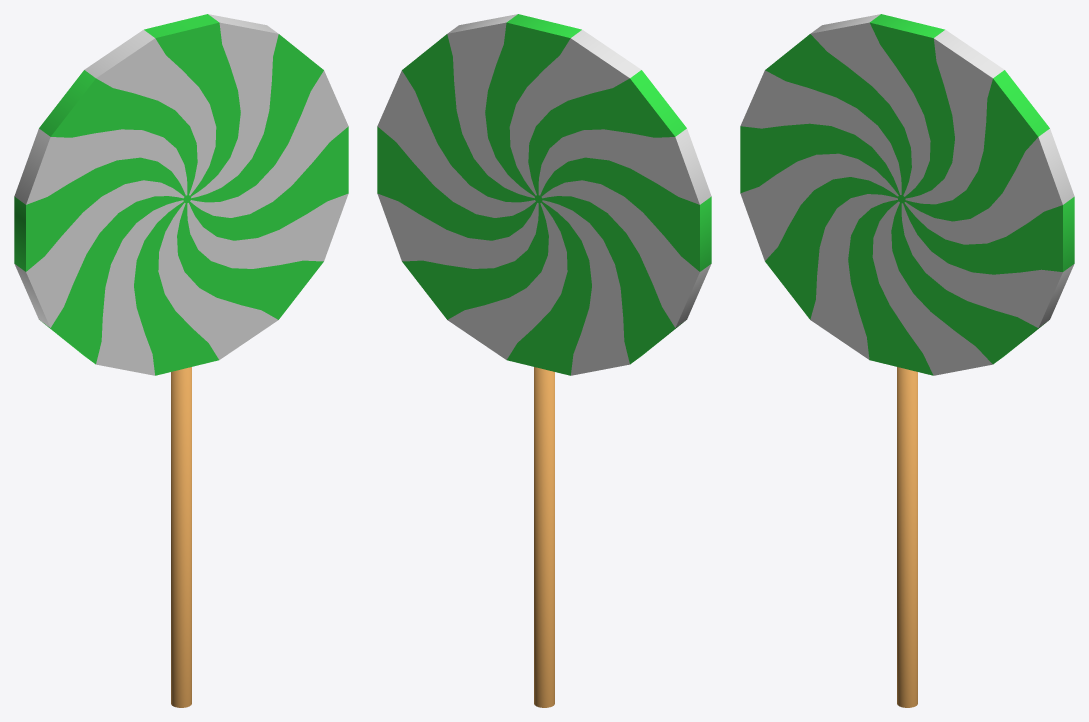
The model's file is PIRULETA 3.fbx.
The picture shows the model from 3 angles, left to right: view 1: azimuth 30°, elevation 25°; view 2: azimuth 150°, elevation 25°; view 3: azimuth 330°, elevation 25°; orthographic projection.
Parts seen in each view (by area): view 1: Piruleta 3.001; view 2: Piruleta 3.001; view 3: Piruleta 3.001.
Boxes of the visible parts, x1,y1,x2,y2 form: Piruleta 3.001: (14, 14, 348, 707); Piruleta 3.001: (377, 14, 711, 707); Piruleta 3.001: (740, 14, 1074, 707).
Size of the model in its own units: 772 by 1549 by 48.5.
